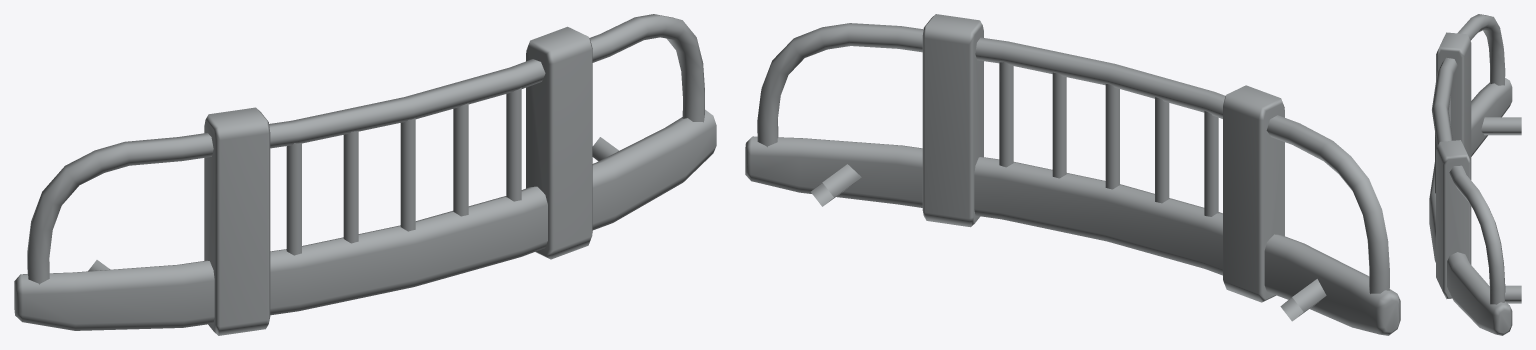
Rendered from Car_07_FrontBumper_Cool.fbx.
The picture shows the model from 3 angles, left to right: view 1: azimuth 30°, elevation 25°; view 2: azimuth 150°, elevation 25°; view 3: azimuth 270°, elevation 25°; orthographic projection. The views are drawn at different scales.
Visible parts, largest first — view 1: Car_07_FrontBumper_Cool; view 2: Car_07_FrontBumper_Cool; view 3: Car_07_FrontBumper_Cool.
Boxes of the visible parts, x1,y1,x2,y2 form: Car_07_FrontBumper_Cool: (14, 14, 716, 335); Car_07_FrontBumper_Cool: (745, 14, 1400, 335); Car_07_FrontBumper_Cool: (1429, 14, 1521, 335).
Size of the model in its own units: 183 by 30.64 by 52.44.
